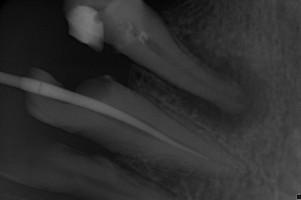Furcation Involvement: (169, 35, 270, 132)
